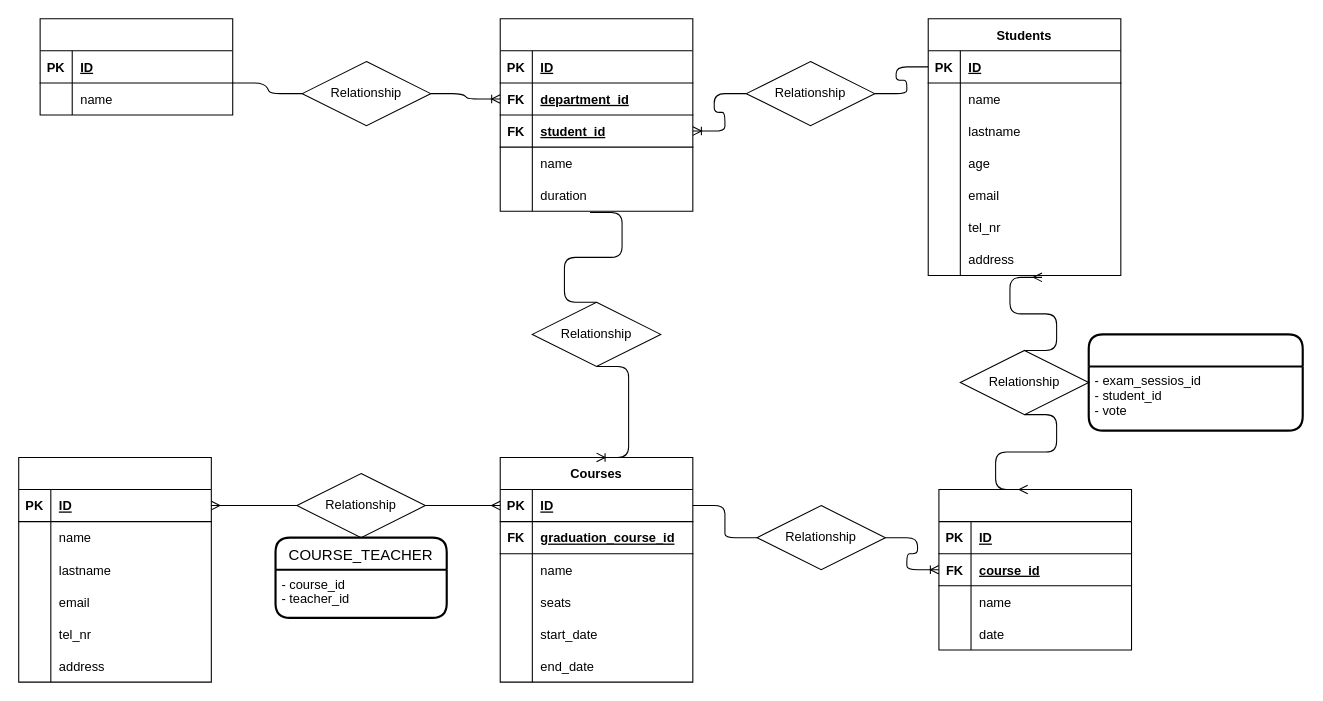
The diagram is 1323 pixels wide and 701 high, and some of its shapes have lost their labels. Here are the shapes that lost their labels. From the top down, the box of each, then its label:
(39, 18, 233, 115): Departments
(499, 18, 693, 211): Graduation_courses
(1087, 333, 1303, 431): EXAM_SESSION_STUDENT
(18, 456, 211, 682): Teachers
(938, 488, 1132, 650): Exam_sessions
